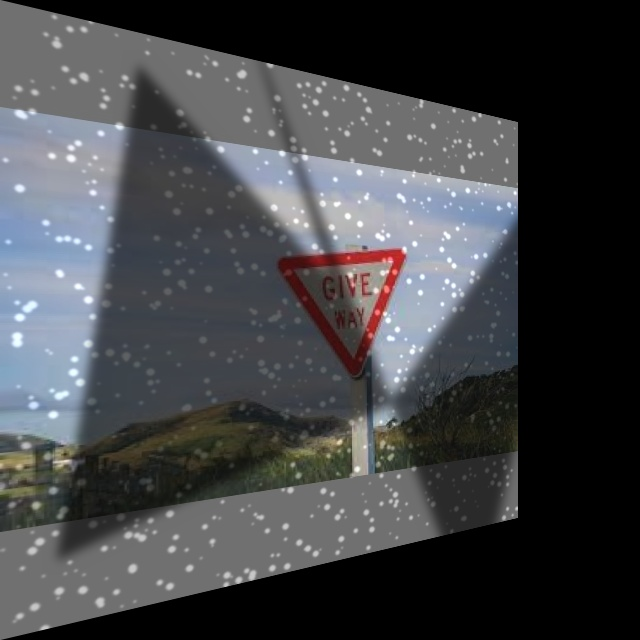Give_Way: (278, 243, 408, 377)
